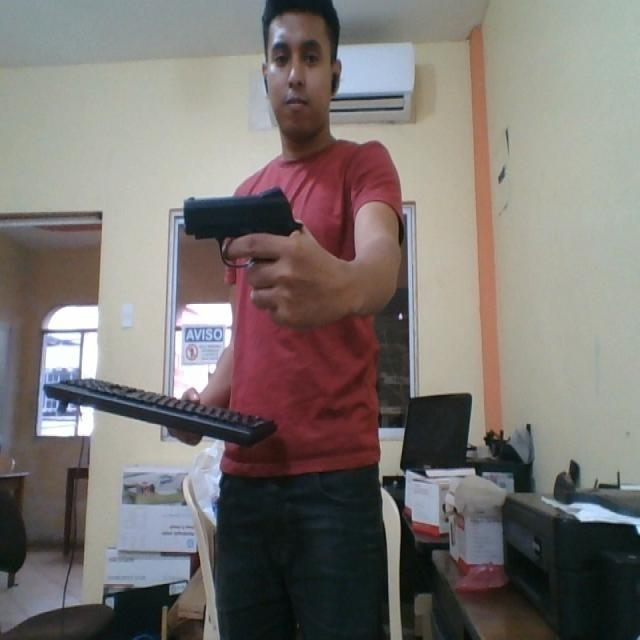weapon: (182, 183, 305, 276)
